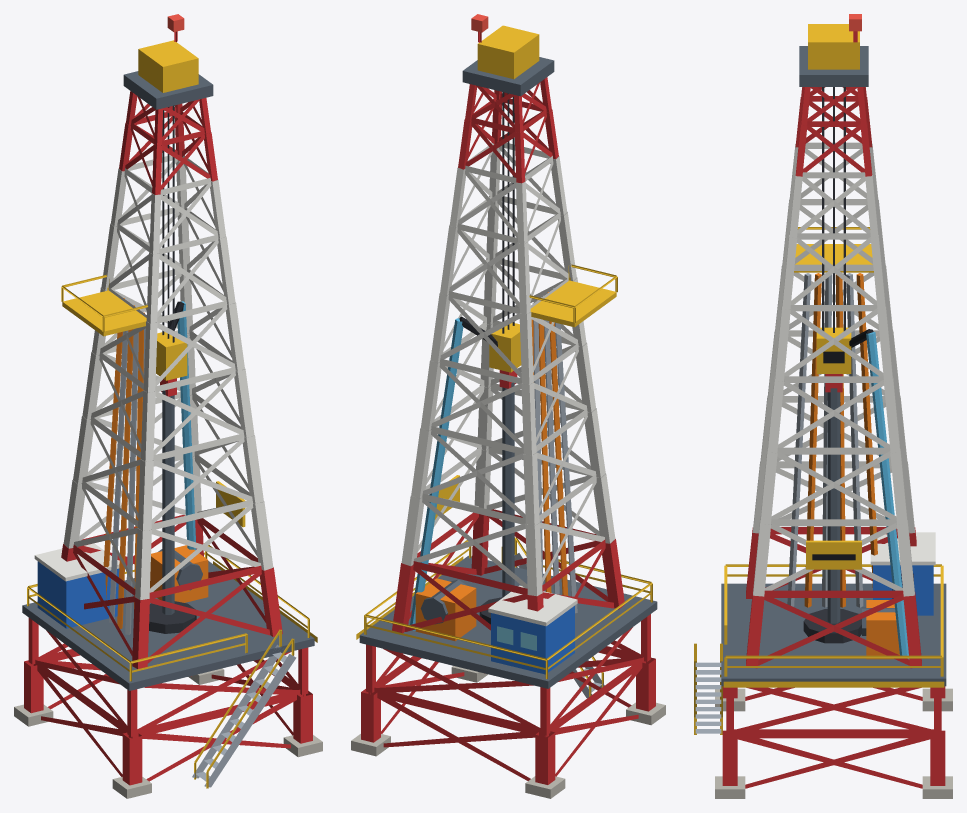
The model's file is drill_rig.glb.
3 views of the same model, side by side, from view 1: azimuth 30°, elevation 25°; view 2: azimuth 150°, elevation 25°; view 3: azimuth 270°, elevation 25° (orthographic). The views are drawn at different scales.
Visible parts, largest first — view 1: Body; view 2: Body; view 3: Body.
Boxes of the visible parts, box(x1,y1,x2,y2) form: Body: box(14, 14, 322, 798); Body: box(351, 14, 665, 798); Body: box(694, 14, 952, 798).
Size of the model in its own units: 1.1 by 3.78 by 1.2.
